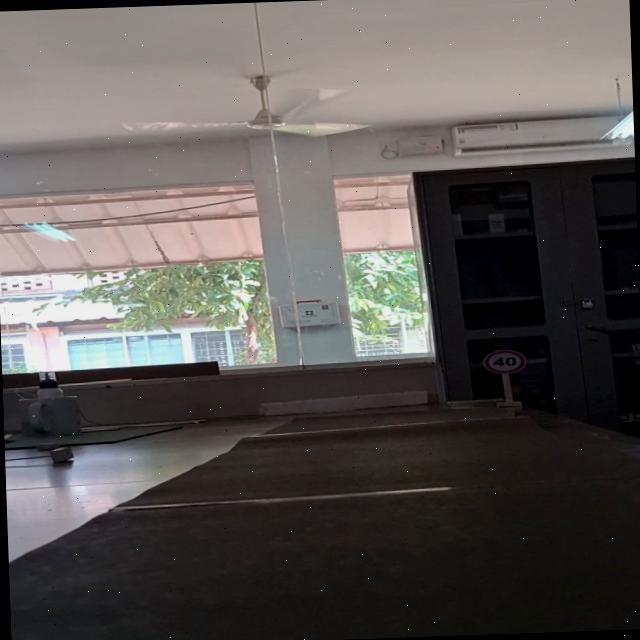Speed40: (480, 346, 528, 376)
